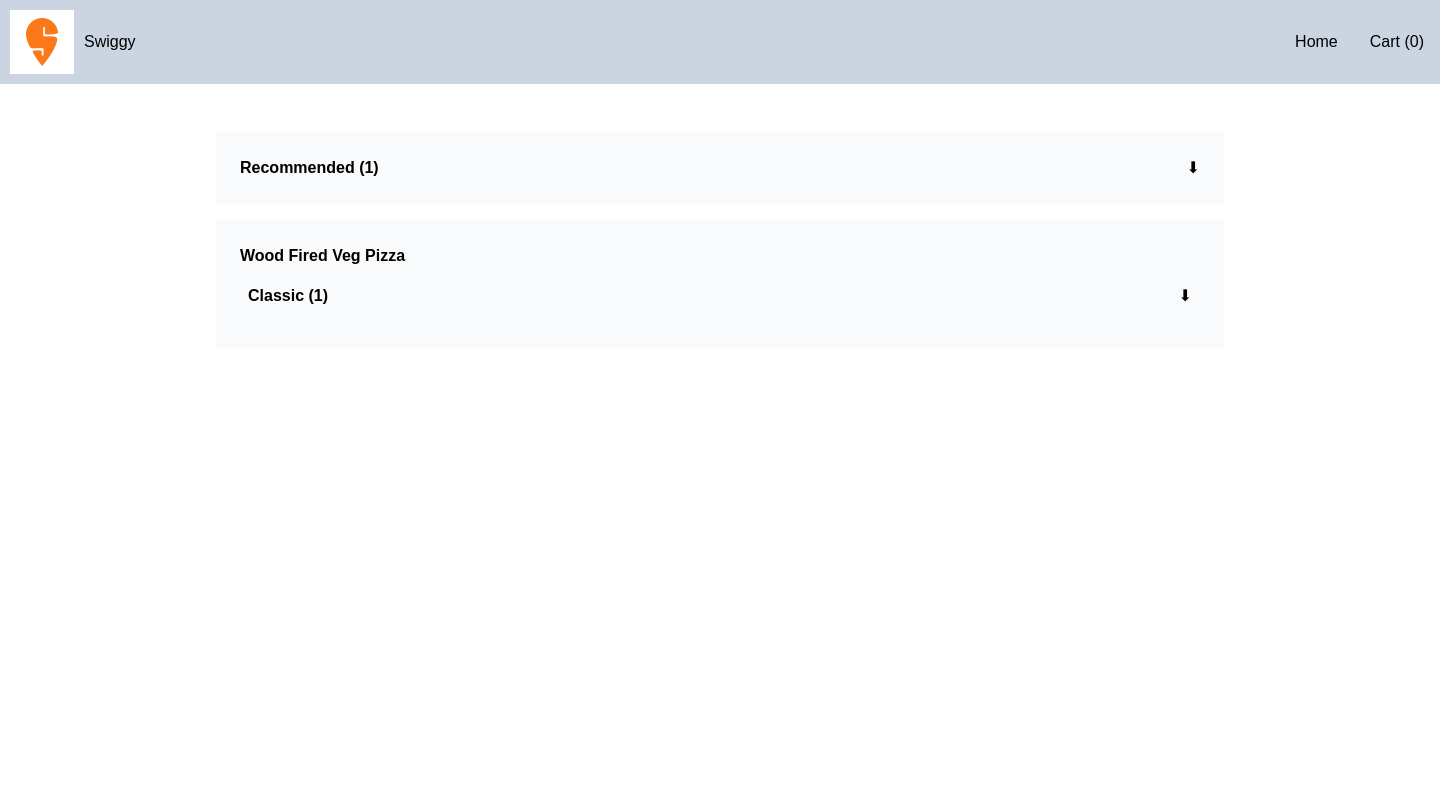
Scenario: Should validate add cart items
Click the heading "Classic (1)". click: (288, 296)
box: [248,284,328,308]
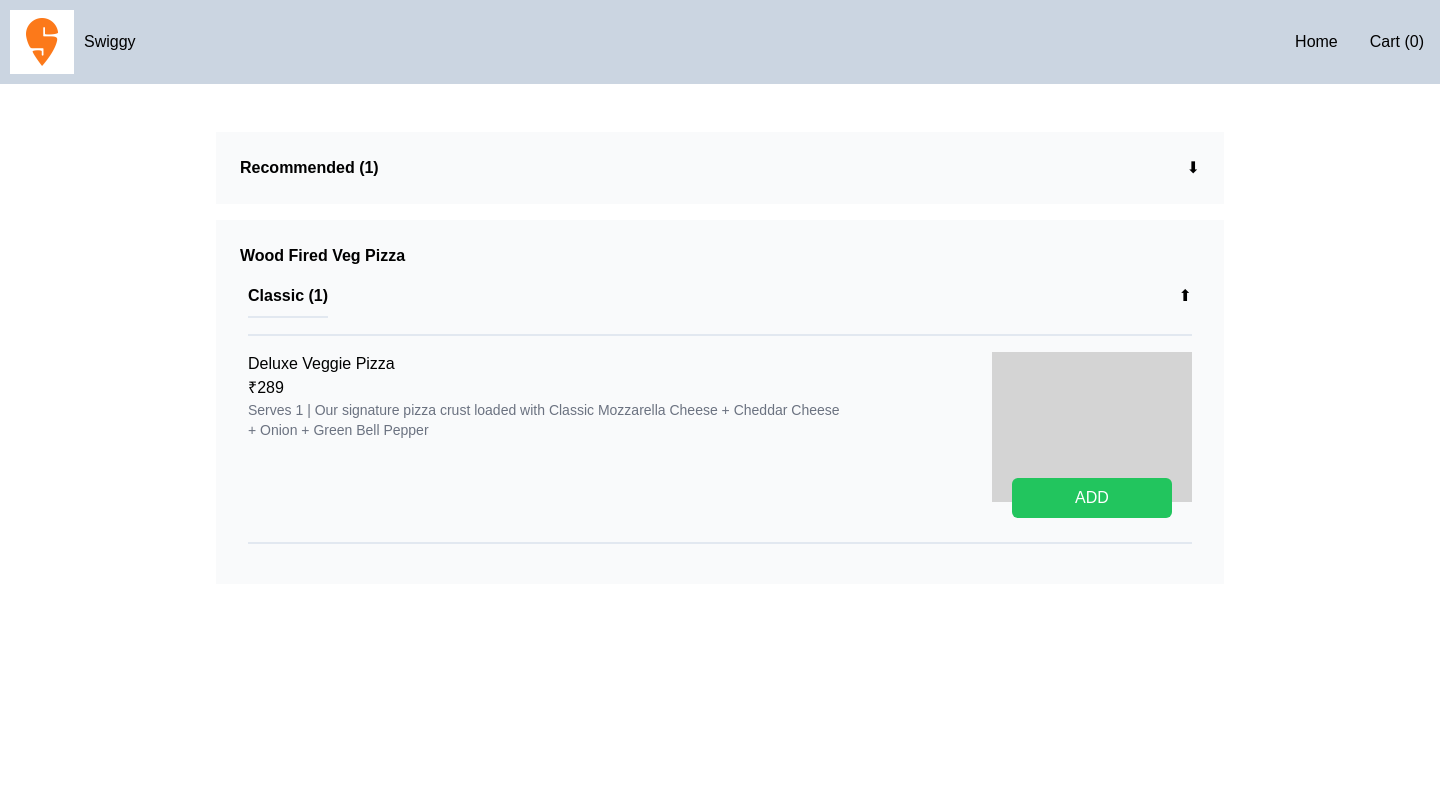
Check: the button "Add" is shown
Click the button "Add". click: (1092, 498)
box: [1012,478,1172,518]
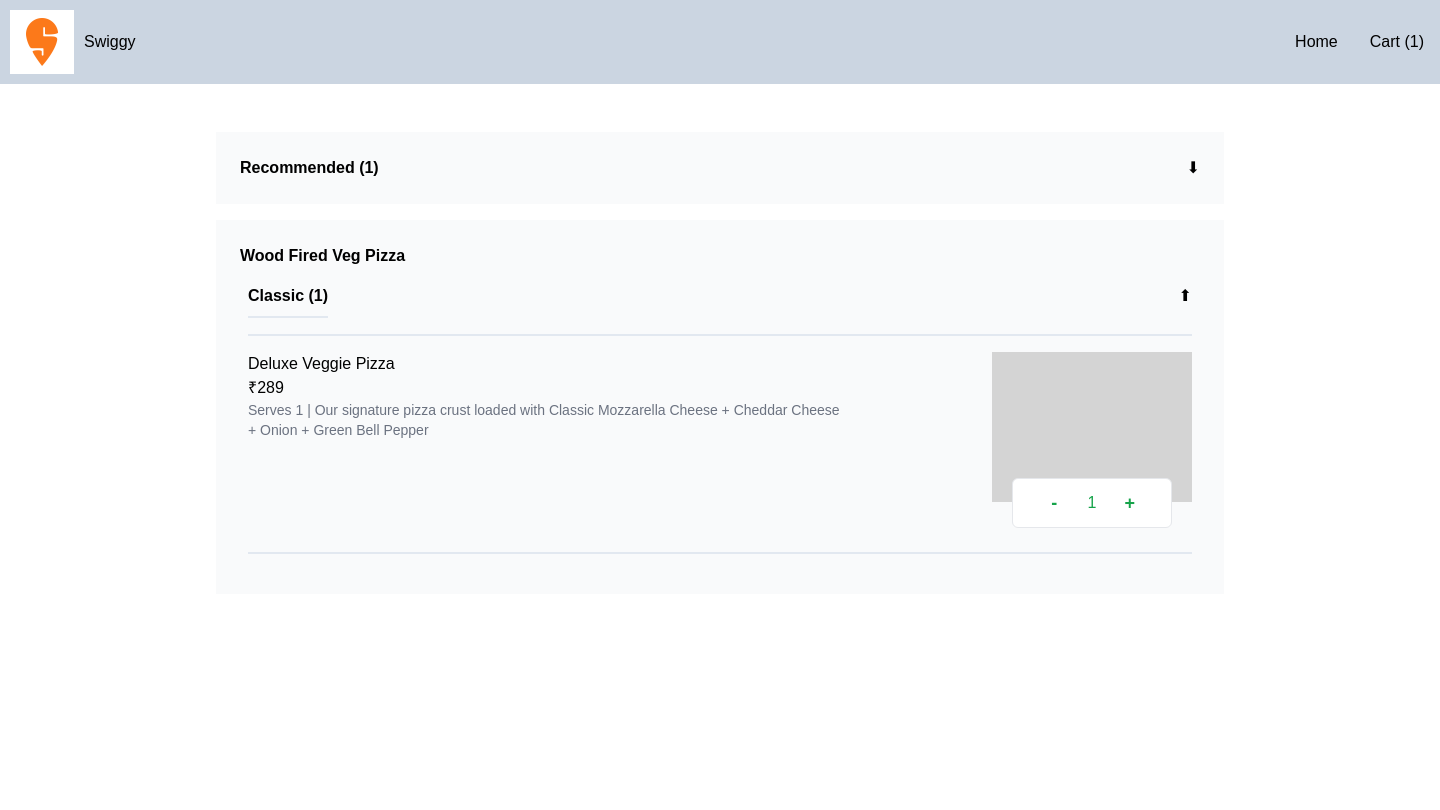
Check: the button "Add" is gone
Check: the button "+" is shown
Check: the text with test id "item-quantity" reads "1", box [1088,494,1096,511]
Click the button "+". click: (1130, 503)
box: [1114,487,1146,519]
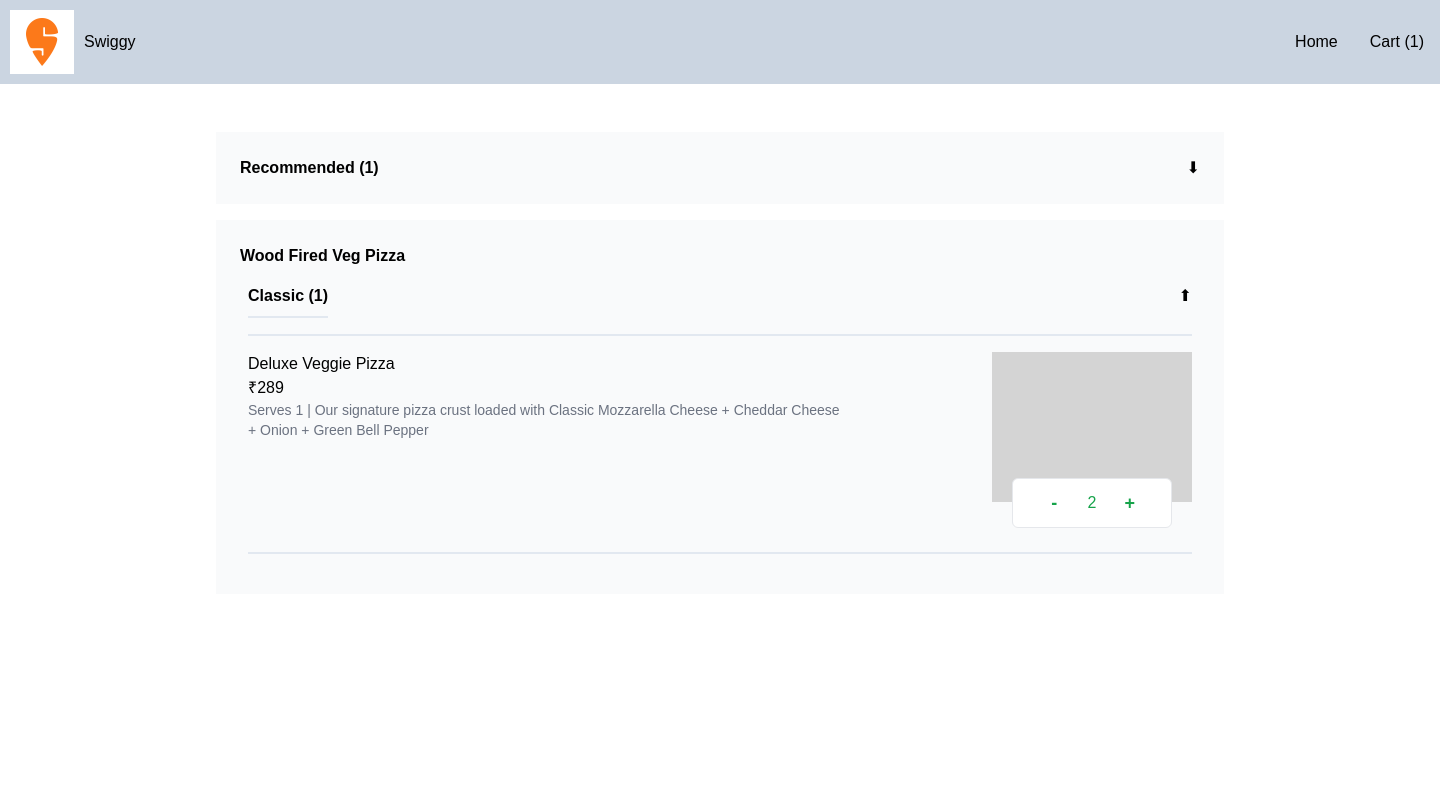
Check: the menu item "Cart (1)" is shown, box [1370,33,1424,50]
Check: the text with test id "item-quantity" reads "2", box [1088,494,1096,511]
